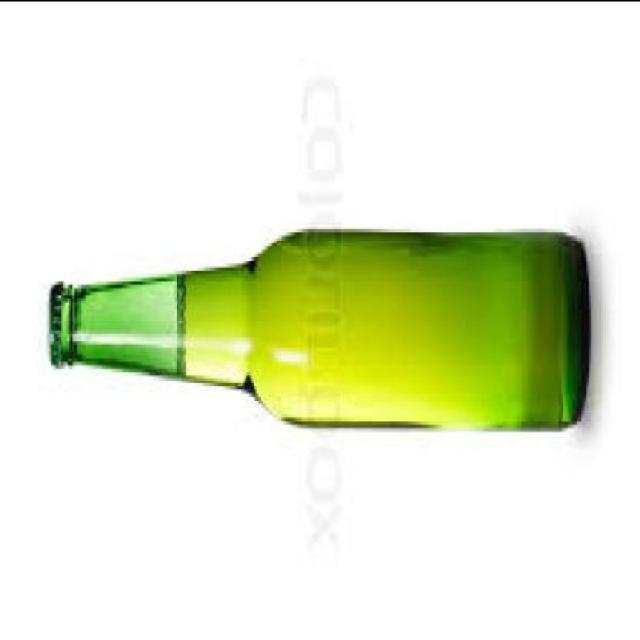GLASS: (60, 227, 589, 430)
METAL: (45, 277, 60, 360)
